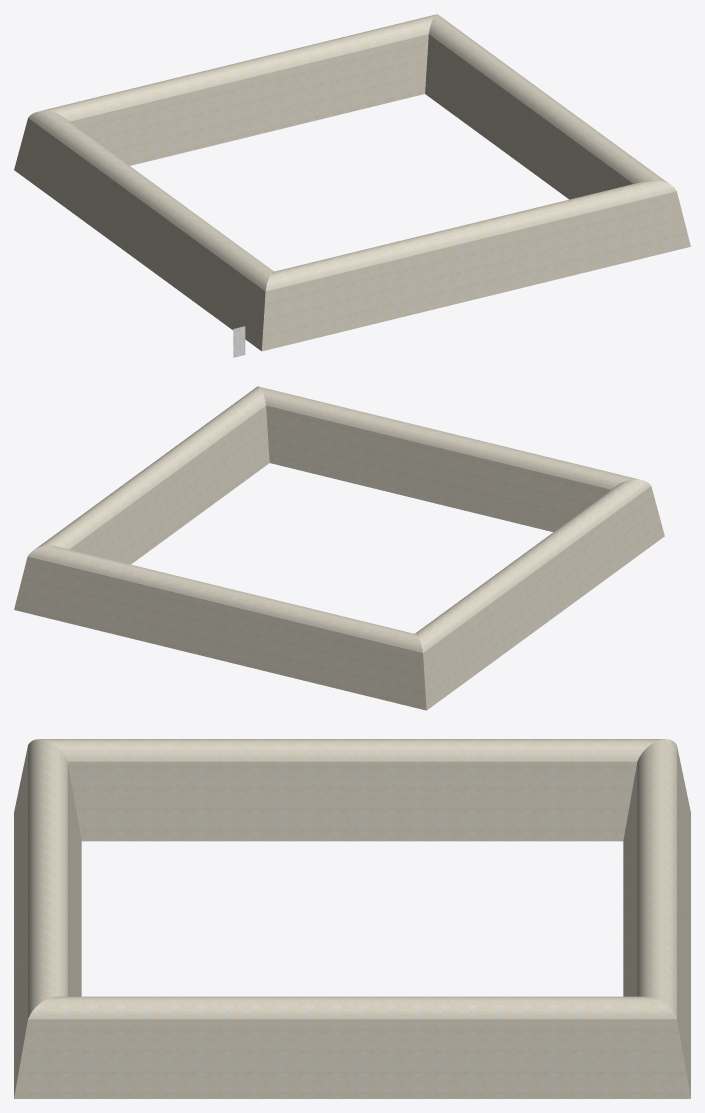
Rendered from LP_enclosure.glb.
3 renders of one model, top to bottom at view 1: azimuth 30°, elevation 25°; view 2: azimuth 150°, elevation 25°; view 3: azimuth 270°, elevation 25°, orthographic. The views are drawn at different scales.
Visible parts, largest first — view 1: Mesh1 Model; view 2: Mesh1 Model; view 3: Mesh1 Model.
Part boxes in pixels (x1,y1,x2,y2): Mesh1 Model: (14,14,690,351); Mesh1 Model: (14,386,664,710); Mesh1 Model: (14,739,690,1098).
Size of the model in its own units: 26.62 by 3.5 by 25.
2 materials, 2 textured.
